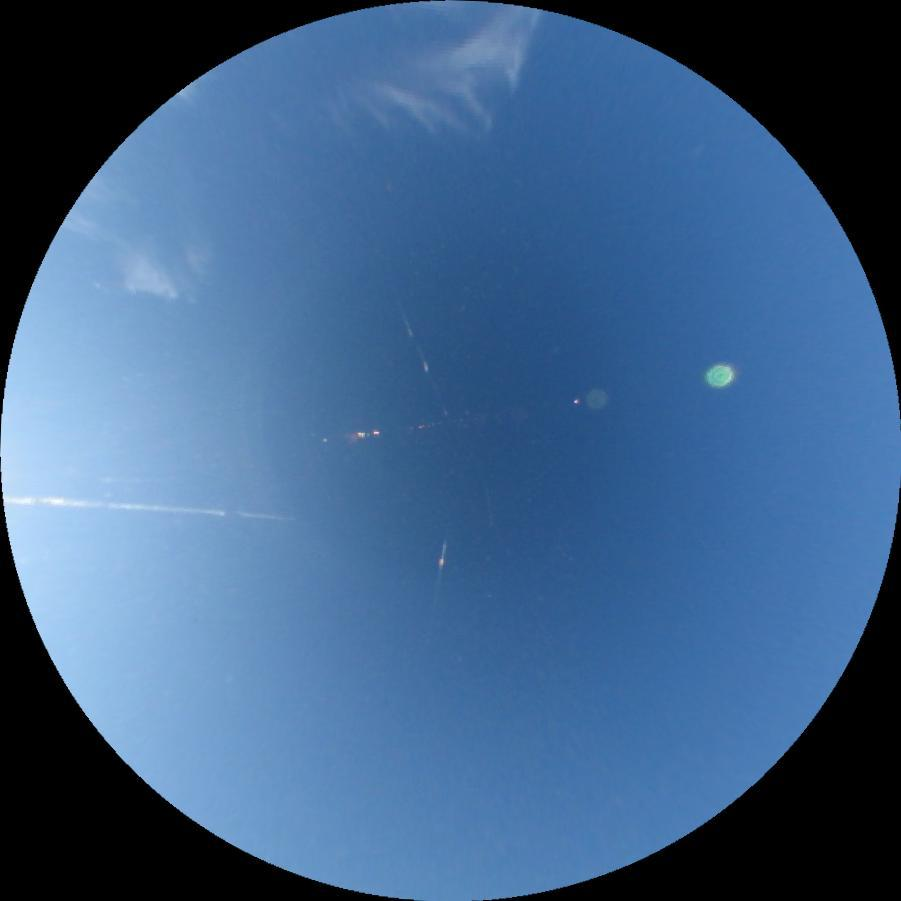parasite: (3, 493, 297, 522), (396, 300, 452, 419), (433, 542, 447, 598)
